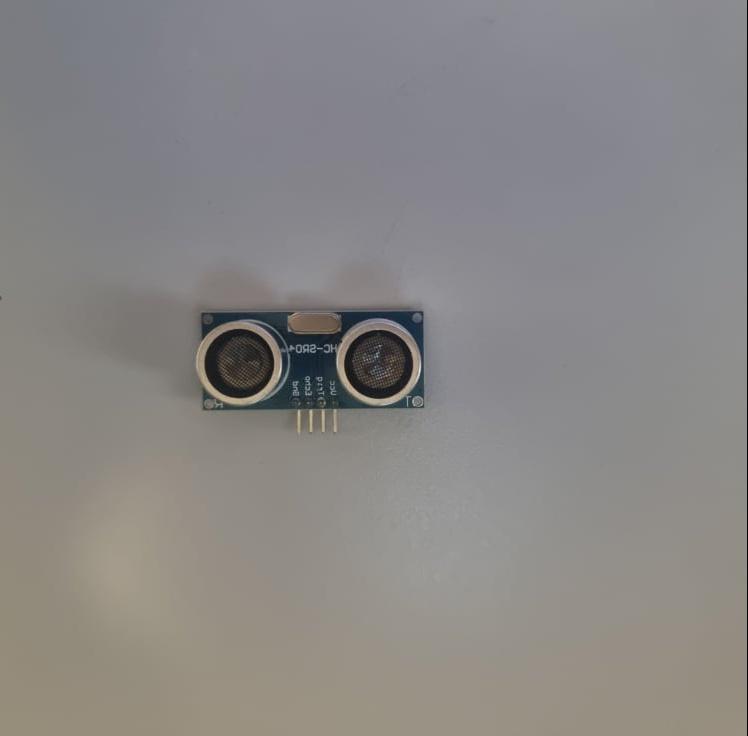SENSOR: (200, 307, 429, 413)
